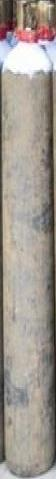cylinder: (1, 1, 56, 479)
